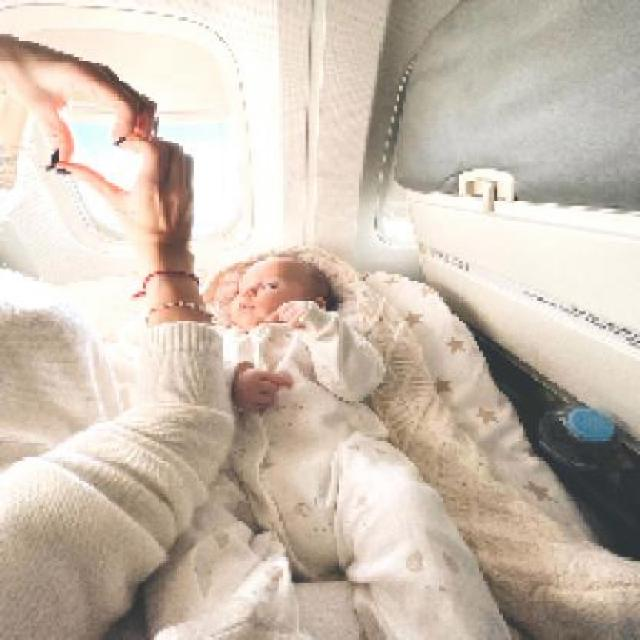child: (140, 254, 514, 637)
